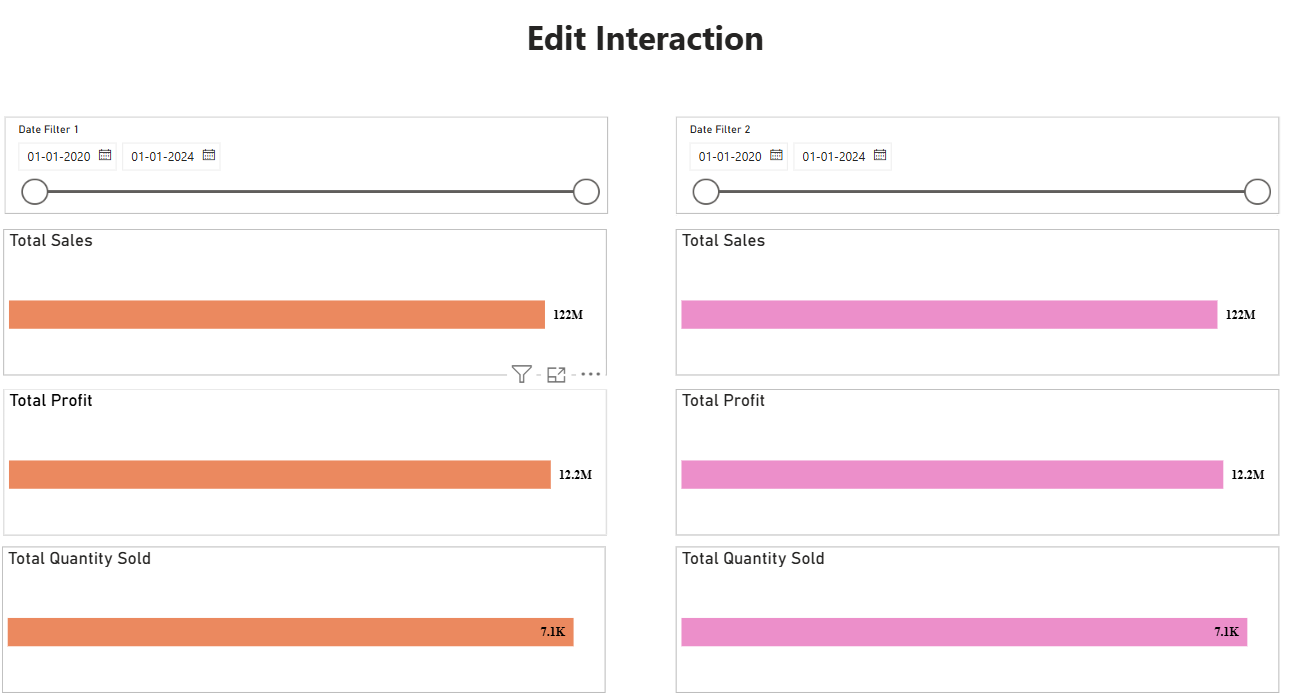

This screenshot's page, from the dashboard's own definition file:
{"tool":"powerbi","page":{"name":"Edit Interaction","canvas":[1280,720],"ordinal":3},"visuals":[{"type":"slicer","fields":{"Values":["Fact Table.Date (dd/mm/yyyy)"]},"box":[9.8,12.2,590.6,151.6],"z":0},{"type":"slicer","fields":{"Values":["Fact Table.Date (dd/mm/yyyy)"]},"box":[668.9,12.2,590.6,151.6],"z":1000},{"type":"barChart","title":"Total  Sales","fields":{"Y":["Sum(Fact Table.Net Sales)"]},"box":[12.2,177.3,590.6,167.5],"z":2000},{"type":"barChart","title":"Total  Profit","fields":{"Y":["Sum(Fact Table.Profit)"]},"box":[12.2,359.5,590.6,167.5],"z":3000},{"type":"barChart","title":"Total  Quantity Sold","fields":{"Y":["Sum(Fact Table.Units Sold)"]},"box":[11,540.5,590.6,167.5],"z":4000},{"type":"barChart","title":"Total  Sales","fields":{"Y":["Sum(Fact Table.Net Sales)"]},"box":[668.9,178.5,590.6,167.5],"z":5000},{"type":"barChart","title":"Total  Profit","fields":{"Y":["Sum(Fact Table.Profit)"]},"box":[668.9,359.5,590.6,167.5],"z":6000},{"type":"barChart","title":"Total  Quantity Sold","fields":{"Y":["Sum(Fact Table.Units Sold)"]},"box":[668.9,540.5,590.6,167.5],"z":7000}]}

Visuals, with their boxes on the page's 1280x720 design canvas (x1, y1, x2, y2). These are canvas units, not pixel positions in the 1289x698 screenshot, which may show the page scaled, cropped or inside an application window:
slicer - Fact Table.Date (dd/mm/yyyy): 10/12/600/164
slicer - Fact Table.Date (dd/mm/yyyy): 669/12/1260/164
"Total  Sales" barChart: 12/177/603/345
"Total  Profit" barChart: 12/360/603/527
"Total  Quantity Sold" barChart: 11/540/602/708
"Total  Sales" barChart: 669/178/1260/346
"Total  Profit" barChart: 669/360/1260/527
"Total  Quantity Sold" barChart: 669/540/1260/708
